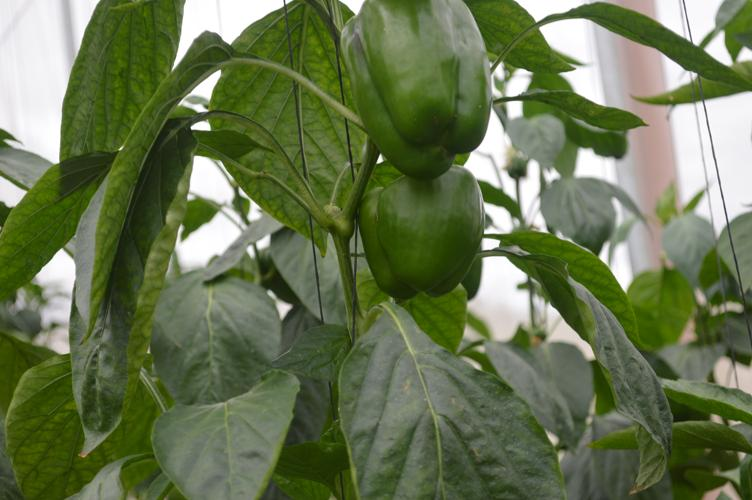BellPepper: (337, 2, 498, 183), (348, 169, 487, 299)
